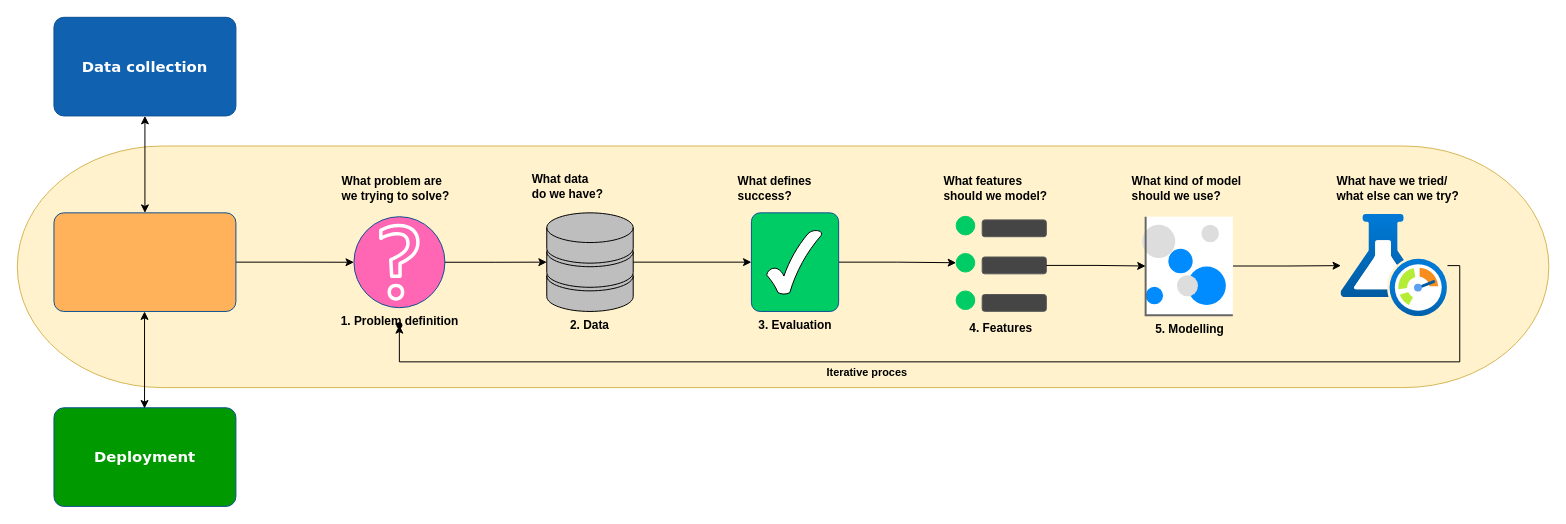
Image size: 1566x524. Some labels were removed from this diagram. The centre of each missing label's shape, as x and y in pixels:
"6. Experiments" belongs at point 1393,265.
"Data modelling" belongs at point 144,261.
